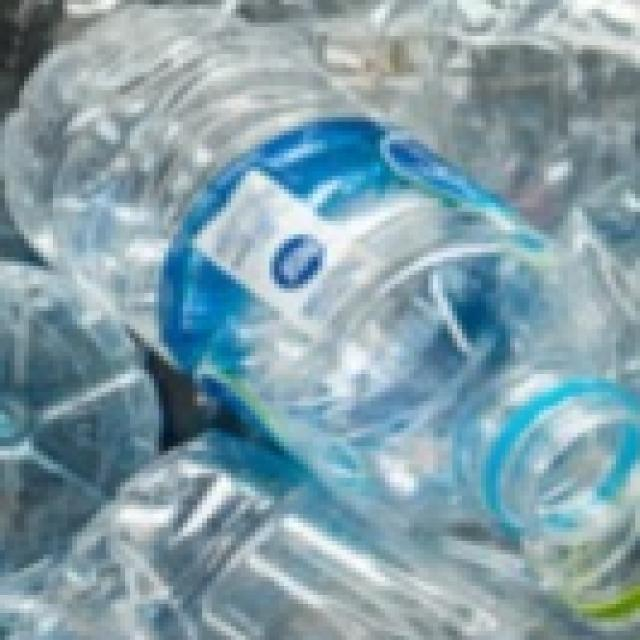plastic bottle: (24, 0, 640, 604)
